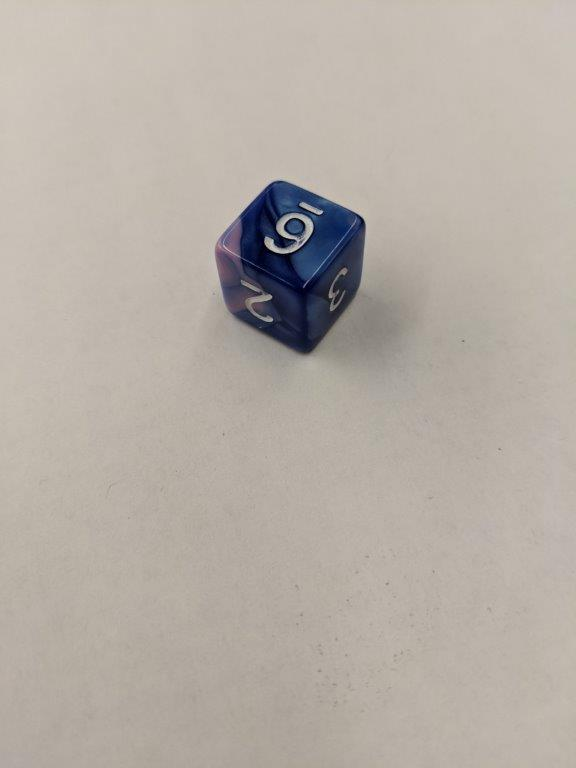d6-6: (216, 180, 364, 353)
